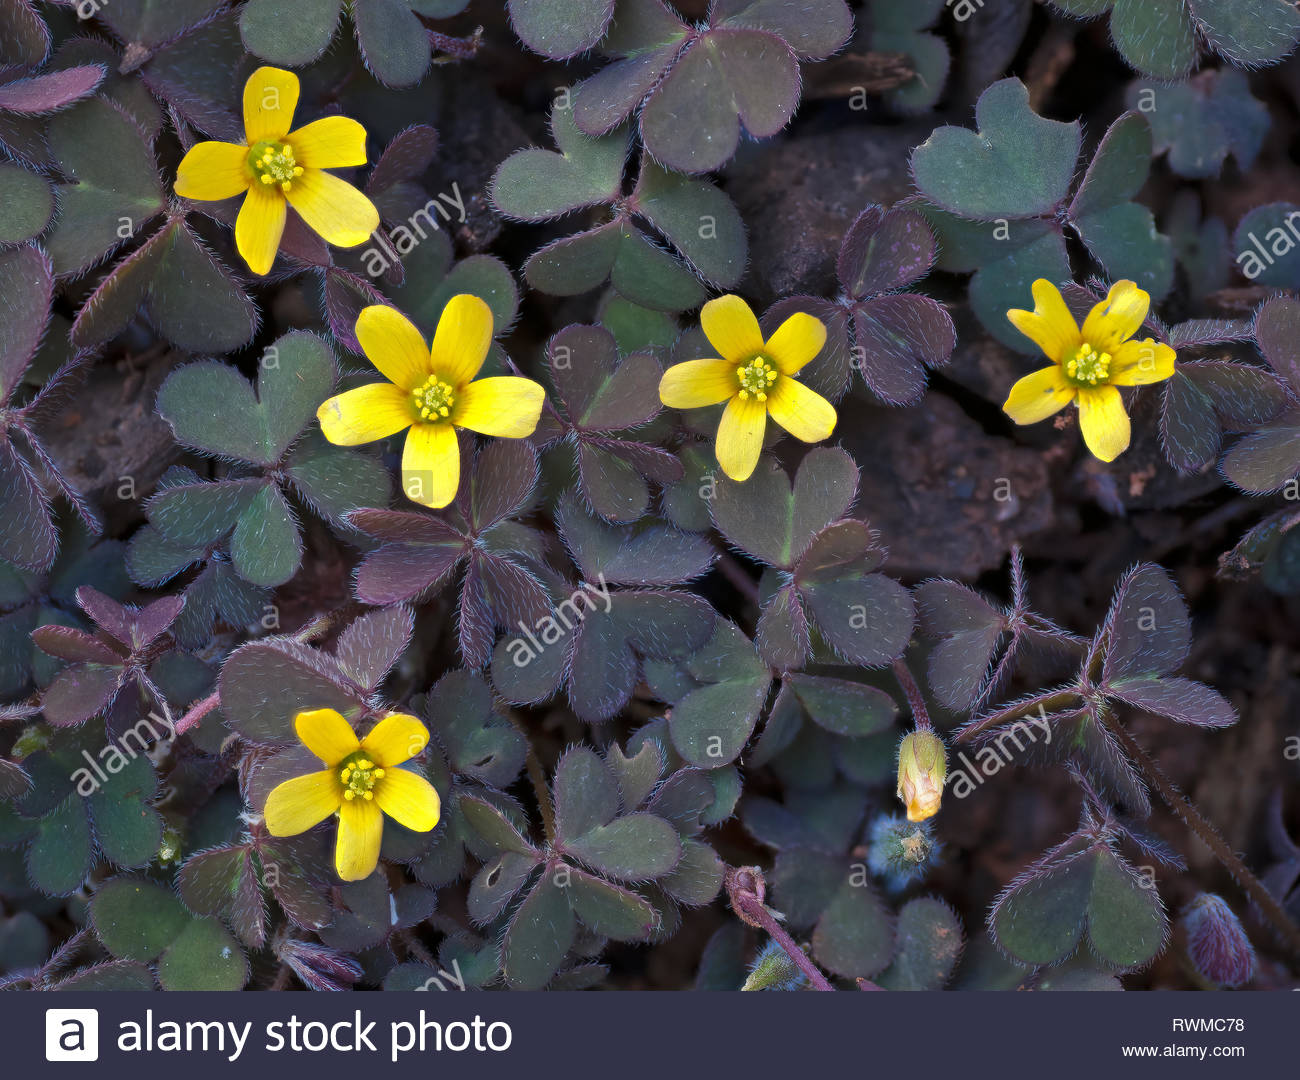oxalis: (83, 94, 1259, 1020)
